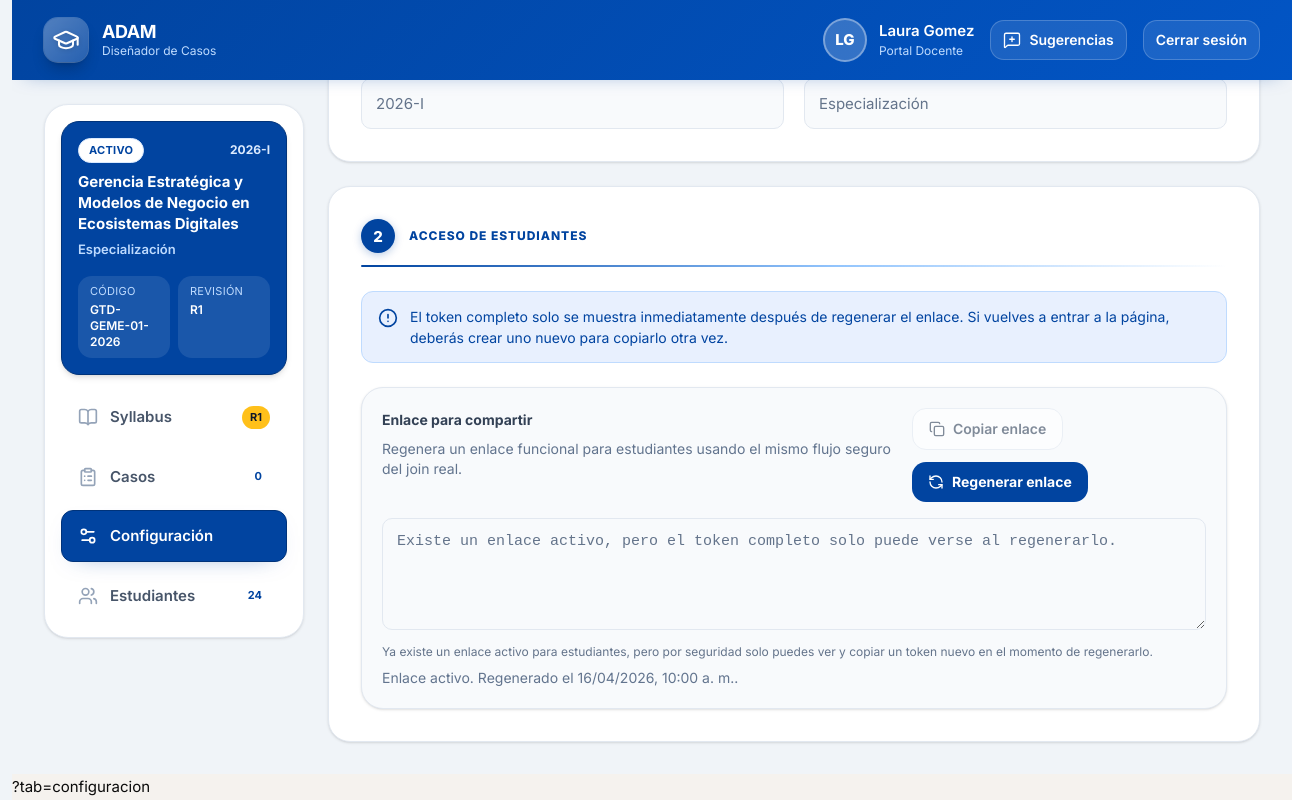
Scenario: TeacherCoursePage › shows a teacher-facing error when access link regeneration fails
The image size is (1292, 800).
(page scrolled)
Click the button "Regenerar enlace". click: (1000, 482)
box: [912, 462, 1088, 502]
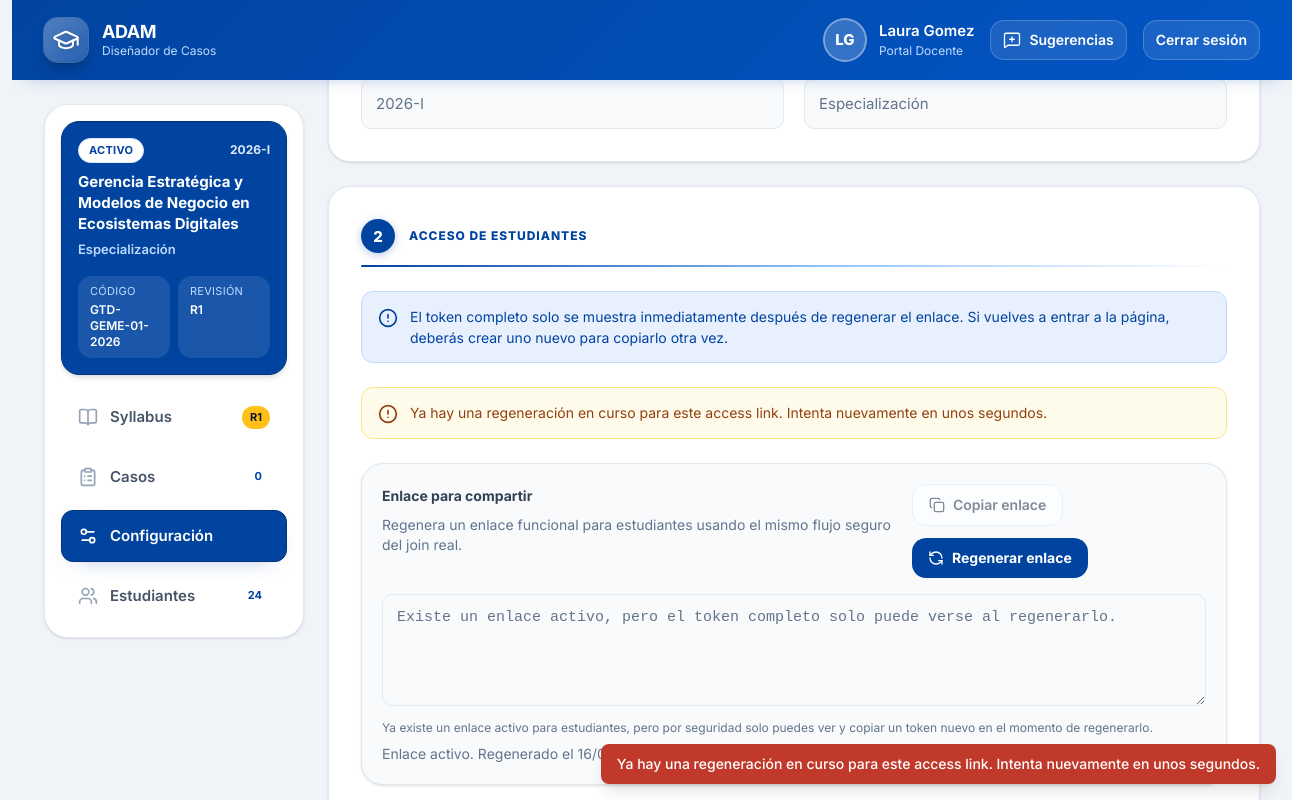
Result: the message below "Acceso de Estudiantes" shows "Ya hay una regeneración en curso para este access link. Intenta nuevamente en unos segundos." at [410, 404, 1047, 421]
